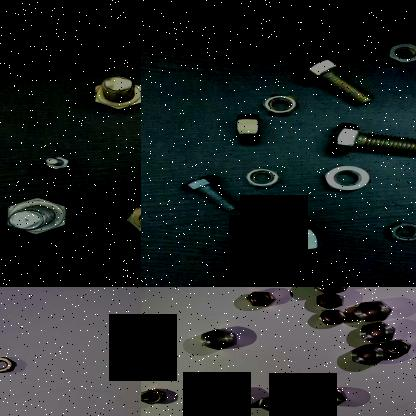Bolts: (224, 219, 334, 266), (321, 115, 416, 162), (294, 57, 381, 107), (0, 194, 73, 238), (177, 172, 245, 217), (85, 72, 141, 116), (42, 153, 78, 176), (121, 205, 141, 233)
NUTS: (318, 164, 387, 197), (223, 109, 268, 144), (242, 162, 286, 193), (198, 384, 245, 410), (260, 92, 298, 121), (350, 343, 386, 369), (383, 217, 416, 245), (308, 386, 346, 410), (354, 299, 392, 323), (383, 44, 416, 71), (198, 329, 238, 351), (358, 319, 393, 343), (254, 392, 288, 414), (315, 308, 351, 327), (312, 290, 345, 310), (244, 288, 274, 308), (384, 339, 413, 357), (141, 388, 168, 407), (282, 392, 310, 410), (0, 355, 17, 374), (307, 287, 353, 294)
